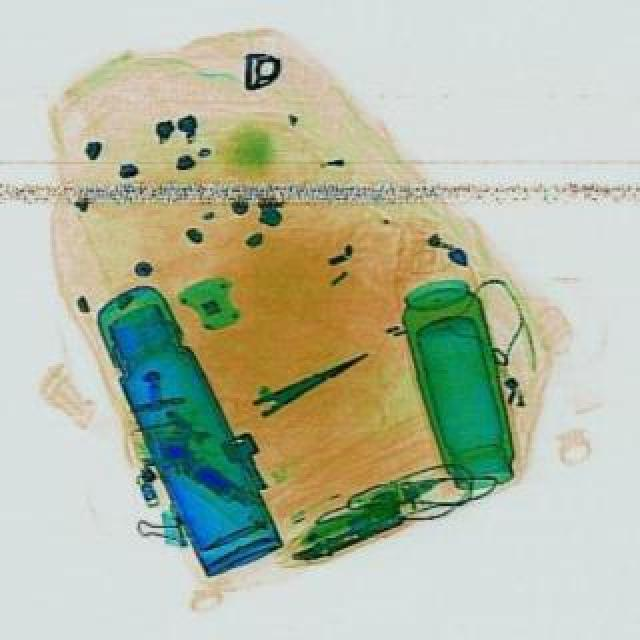knife: (250, 344, 372, 418)
